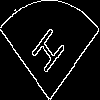H: (25, 25, 67, 83)
